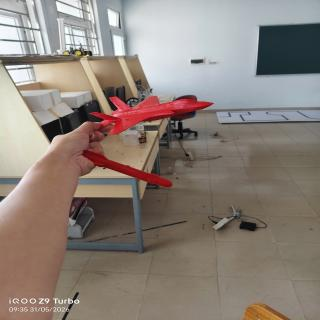Jet: (92, 94, 214, 136)
Rocket: (83, 148, 176, 188)
